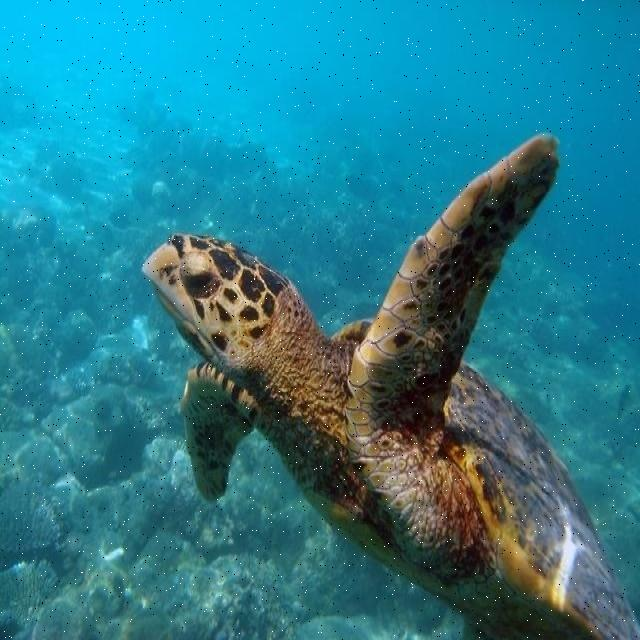fish: (141, 132, 638, 639)
